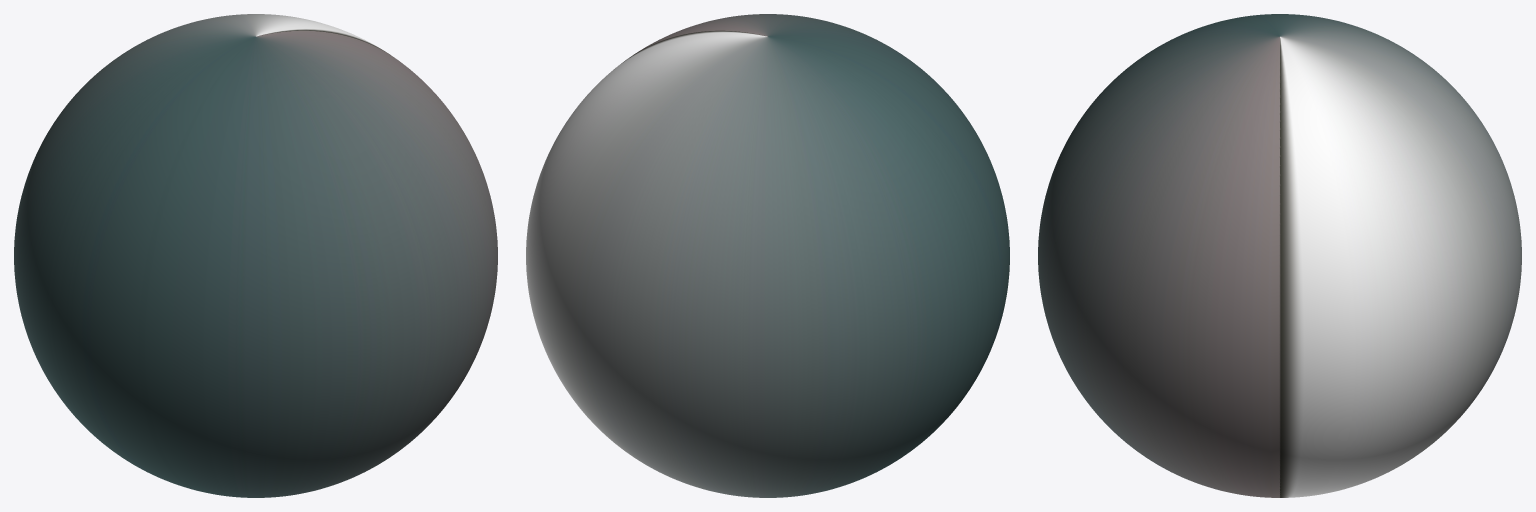
Rendered from venus.gltf.
3 views of the same model, side by side, from view 1: azimuth 30°, elevation 25°; view 2: azimuth 150°, elevation 25°; view 3: azimuth 270°, elevation 25° (orthographic).
Parts seen in each view (by area): view 1: Geode; view 2: Geode; view 3: Geode.
Part boxes in pixels (<box>): Geode: <box>14,14,497,497</box>; Geode: <box>526,14,1009,497</box>; Geode: <box>1038,14,1521,497</box>.
Size of the model in its own units: 2 by 2 by 2.
